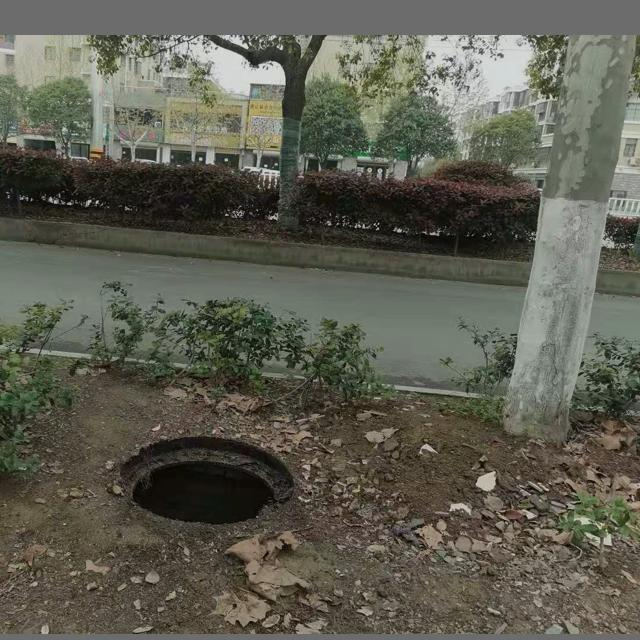lose: (119, 434, 299, 529)
